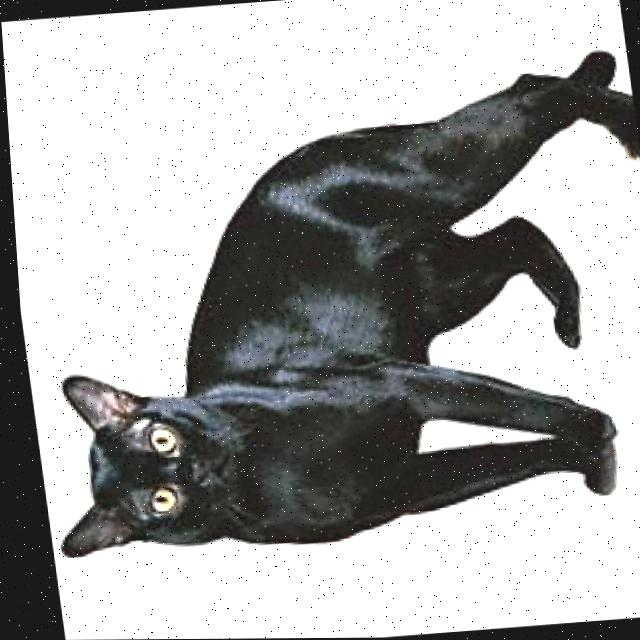Bombay: (2, 35, 640, 569)
